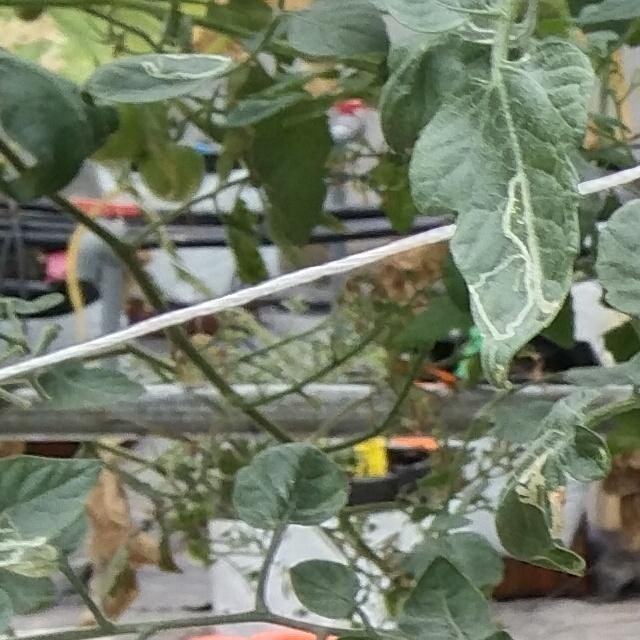Healthy: (231, 431, 353, 530), (288, 555, 367, 622)
Leaf_Miner: (412, 38, 602, 395), (494, 386, 640, 580), (0, 454, 104, 573), (81, 49, 240, 106)
